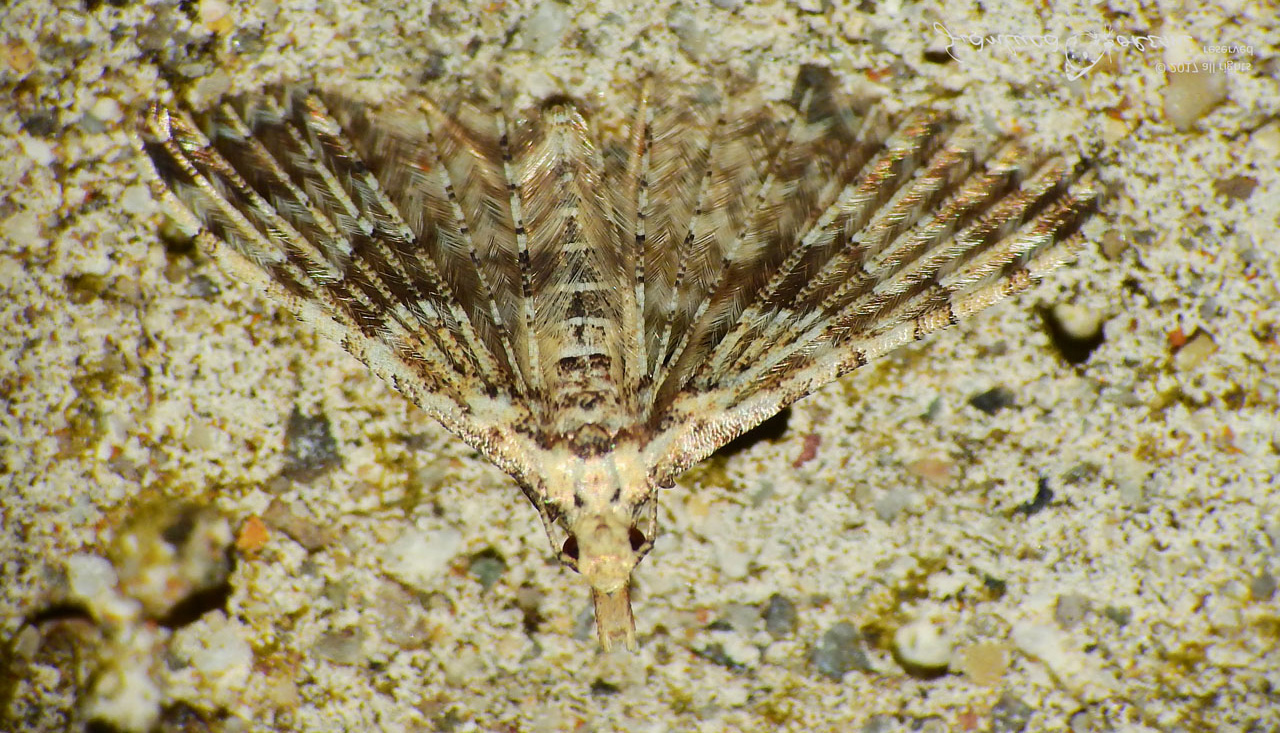Alucitidae: (116, 69, 1096, 662)
moth: (118, 71, 1098, 664)
